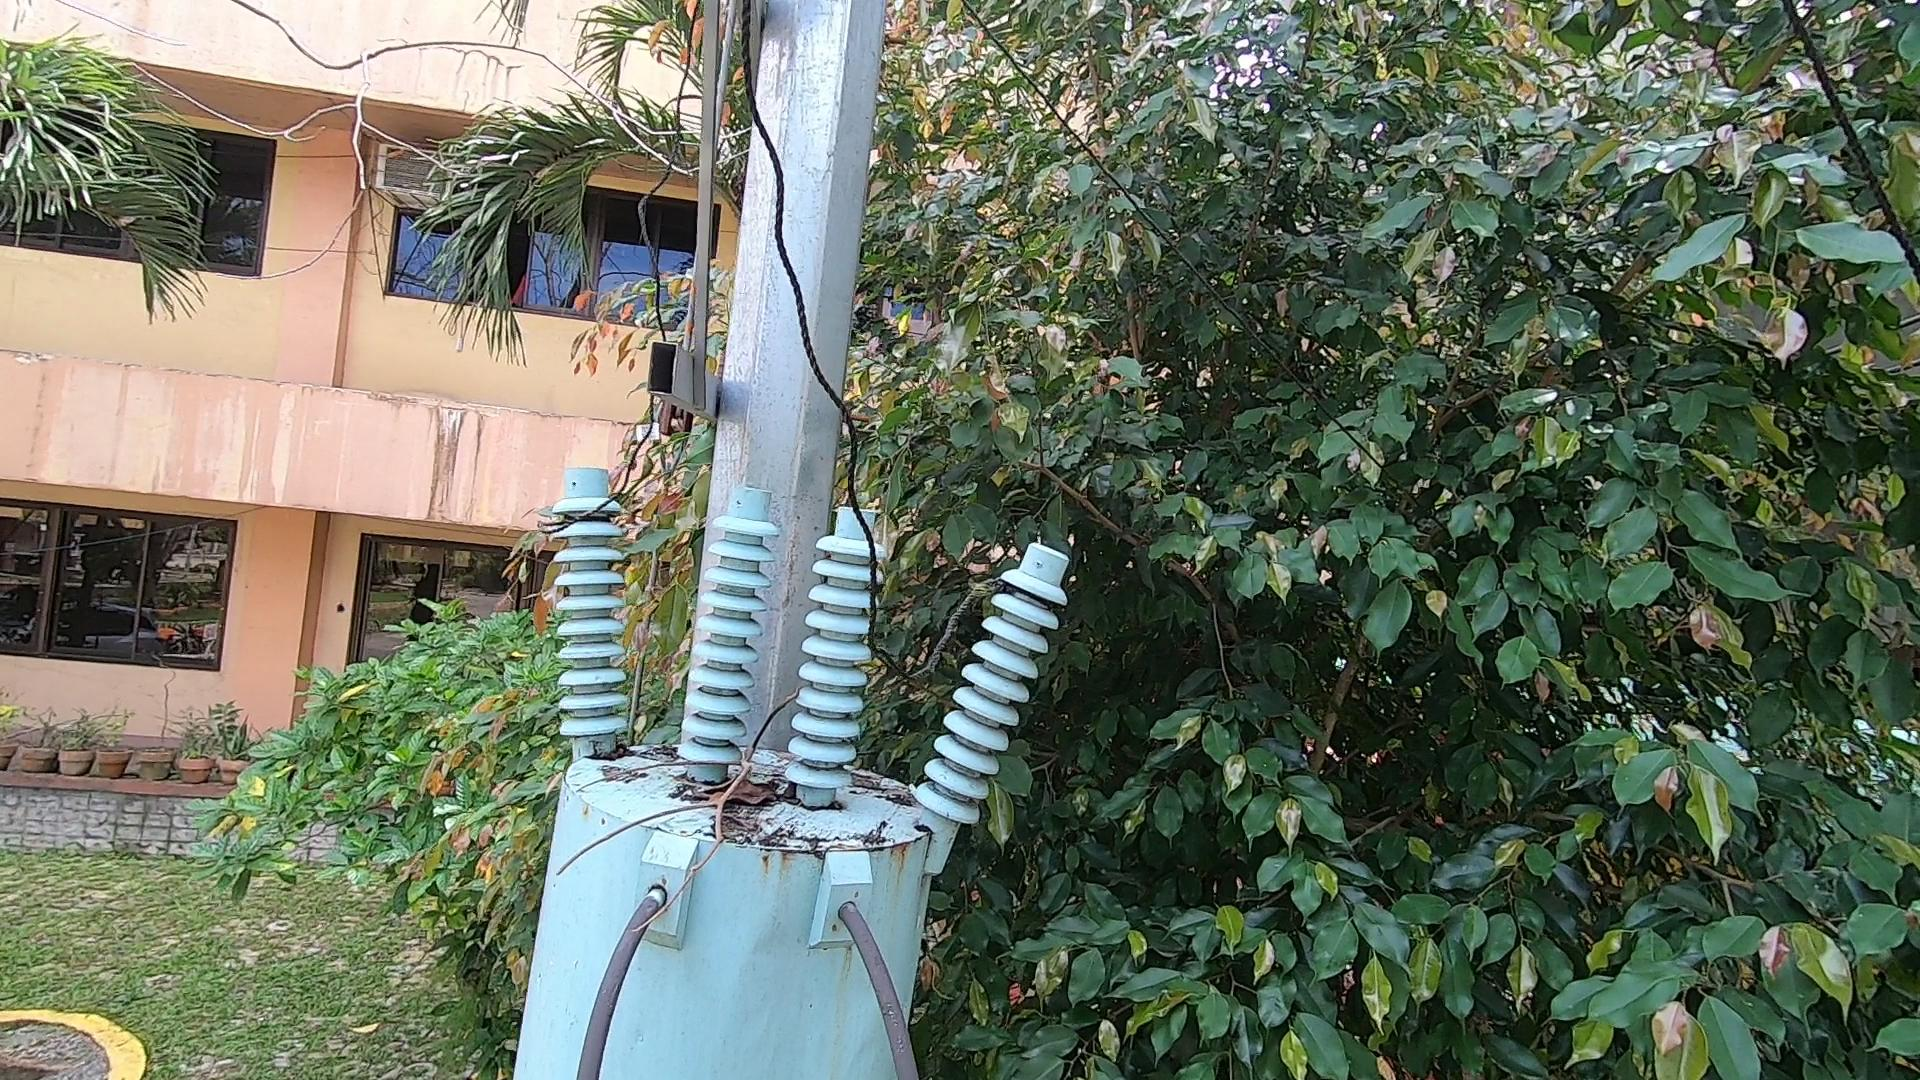leaf: (692, 773, 783, 818), (851, 766, 922, 807), (585, 737, 640, 769)
tree branch: (529, 684, 822, 935)
